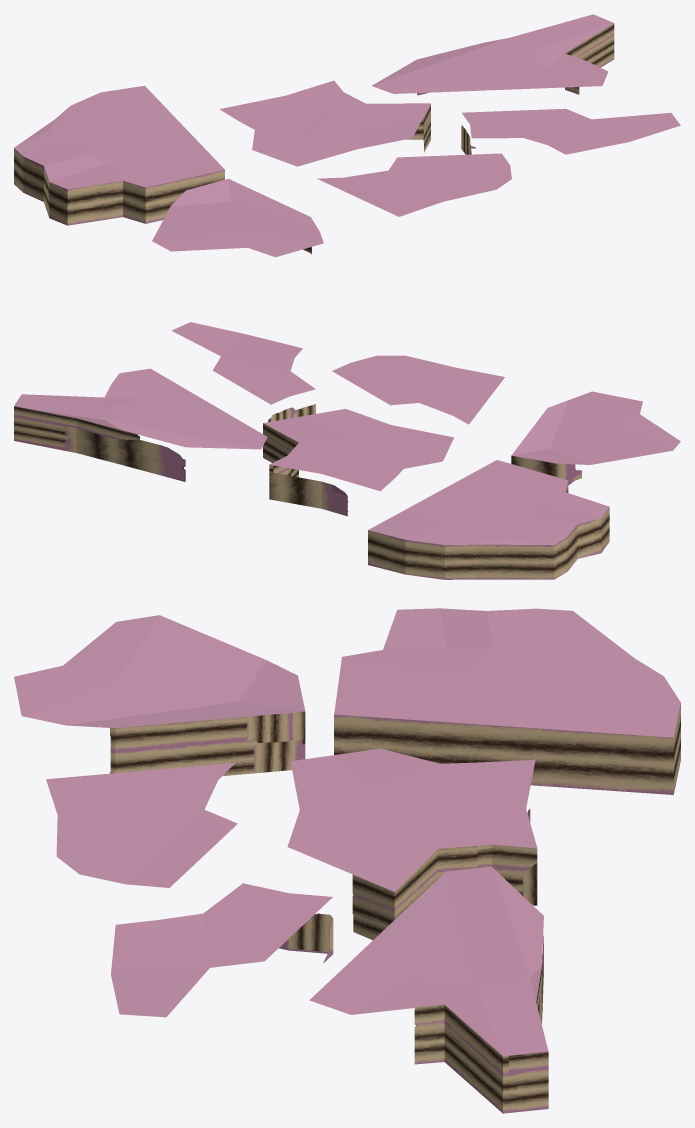
The model's file is SzczatkiPodlogi.fbx.
3 renders of one model, top to bottom at view 1: azimuth 30°, elevation 25°; view 2: azimuth 150°, elevation 25°; view 3: azimuth 270°, elevation 25°, orthographic. The views are drawn at different scales.
Parts seen in each view (by area): view 1: Plane.009, Plane.004, Plane.008, Plane.007, Plane.006, Plane.005; view 2: Plane.009, Plane.004, Plane.008, Plane.007, Plane.006, Plane.005; view 3: Plane.009, Plane.004, Plane.007, Plane.008, Plane.006, Plane.005.
Boxes of the visible parts, x1,y1,x2,y2 form: Plane.009: (14,85,224,225); Plane.004: (372,14,614,95); Plane.008: (219,80,430,166); Plane.007: (152,178,323,257); Plane.006: (317,153,511,216); Plane.005: (461,108,680,154); Plane.009: (368,460,609,579); Plane.004: (14,368,267,481); Plane.008: (263,409,453,516); Plane.007: (511,391,680,485); Plane.006: (332,355,504,424); Plane.005: (171,322,315,421); Plane.009: (334,608,680,794); Plane.004: (309,866,548,1113); Plane.007: (14,615,305,776); Plane.008: (287,748,537,939); Plane.006: (46,762,237,887); Plane.005: (111,883,333,1017).
Size of the model in its own units: 737 by 49.19 by 461.
3 materials, 2 textured.
